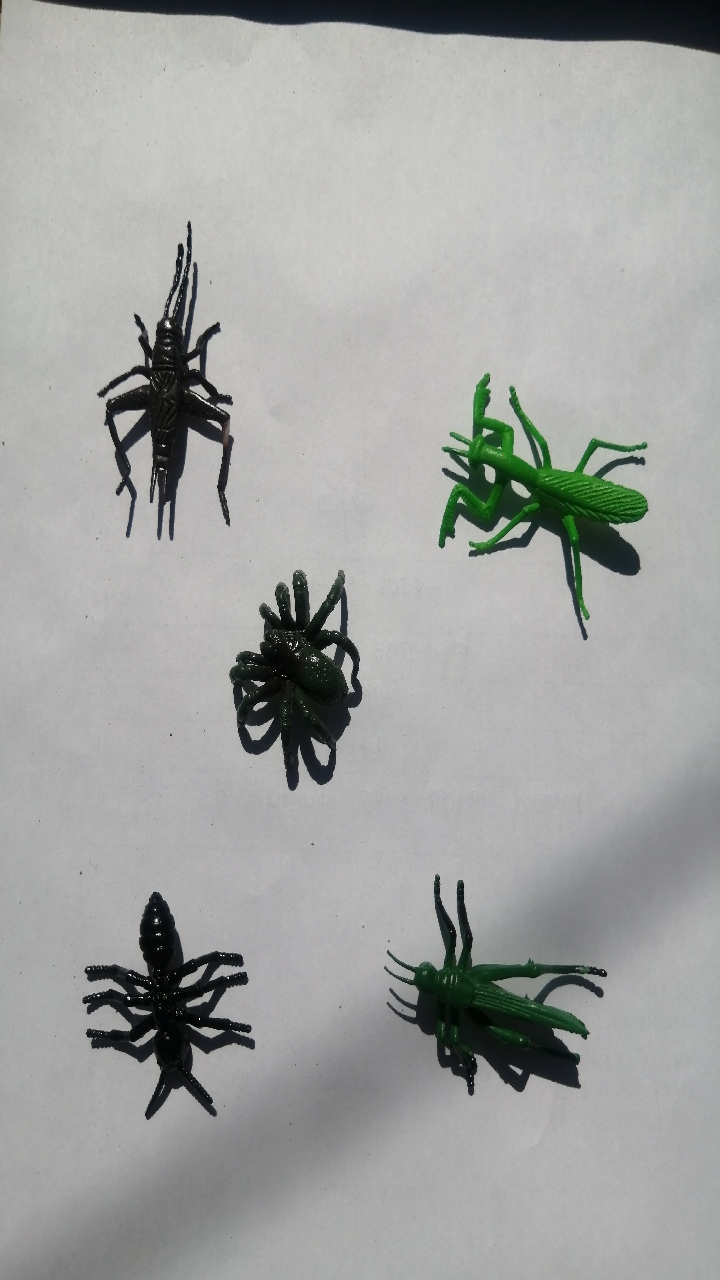intruso: (355, 843, 635, 1129), (37, 857, 283, 1165), (428, 337, 660, 634), (63, 189, 251, 528), (186, 542, 398, 795)
